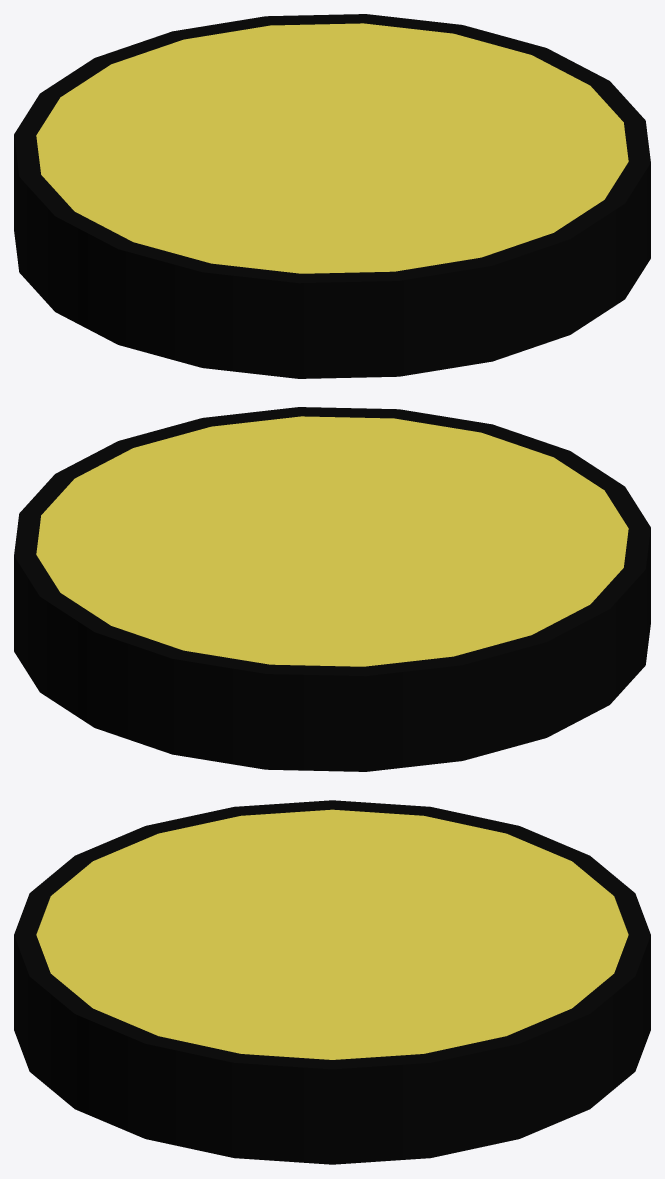
The model's file is coin.fbx.
3 renders of one model, top to bottom at view 1: azimuth 30°, elevation 25°; view 2: azimuth 150°, elevation 25°; view 3: azimuth 270°, elevation 25°, orthographic.
Parts seen in each view (by area): view 1: pCylinder1; view 2: pCylinder1; view 3: pCylinder1.
Part boxes in pixels (x1=…): pCylinder1: x1=14, y1=14, x2=650, y2=378; pCylinder1: x1=14, y1=407, x2=650, y2=771; pCylinder1: x1=14, y1=800, x2=650, y2=1164.
Size of the model in its own units: 2 by 0.33 by 2.
